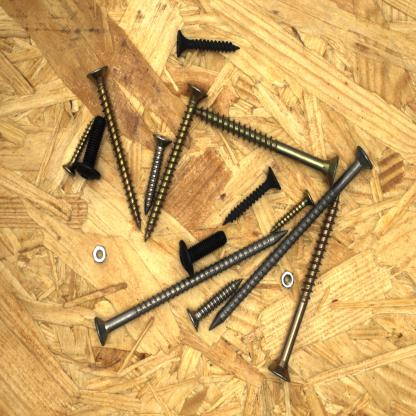screw: (208, 141, 378, 335), (92, 226, 290, 350), (267, 186, 344, 384), (191, 104, 342, 192), (141, 74, 211, 246), (82, 60, 145, 230), (221, 162, 285, 224), (183, 278, 241, 332), (141, 126, 174, 218), (176, 227, 229, 278), (73, 110, 107, 181), (175, 27, 241, 63), (62, 111, 98, 177), (269, 188, 317, 236)
